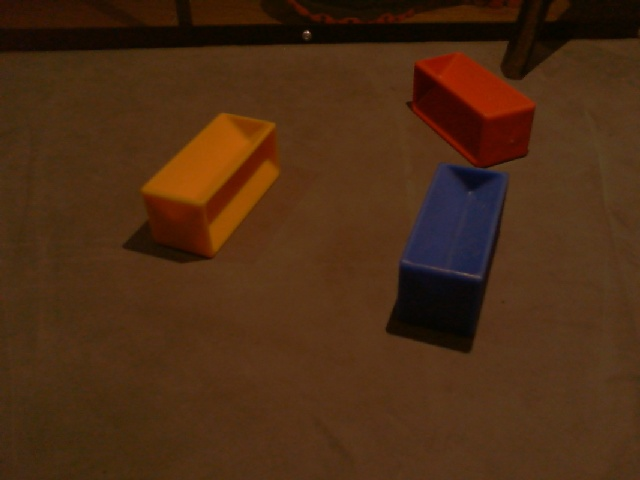BlueSample: (396, 160, 511, 329)
RedSample: (411, 50, 541, 170)
YellowSample: (143, 111, 284, 262)
